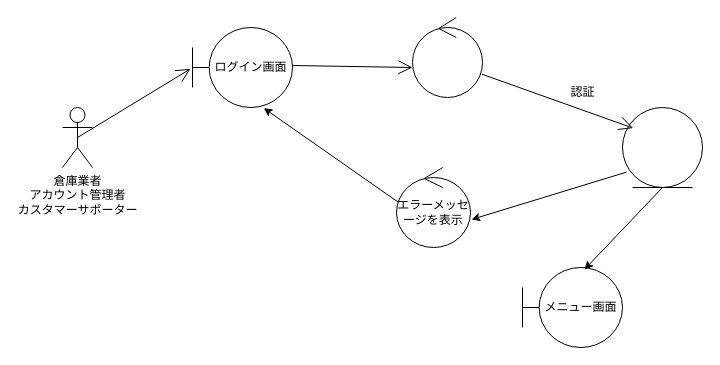
Image size: 720x365. Some labels were removed from this diagram. The shapes that lost their labels are listed below. From the top down, each one's centre as x and y in pixels, then its label:
(x=447, y=57): IDとパスワードを入力
(x=662, y=147): 管理者データ
